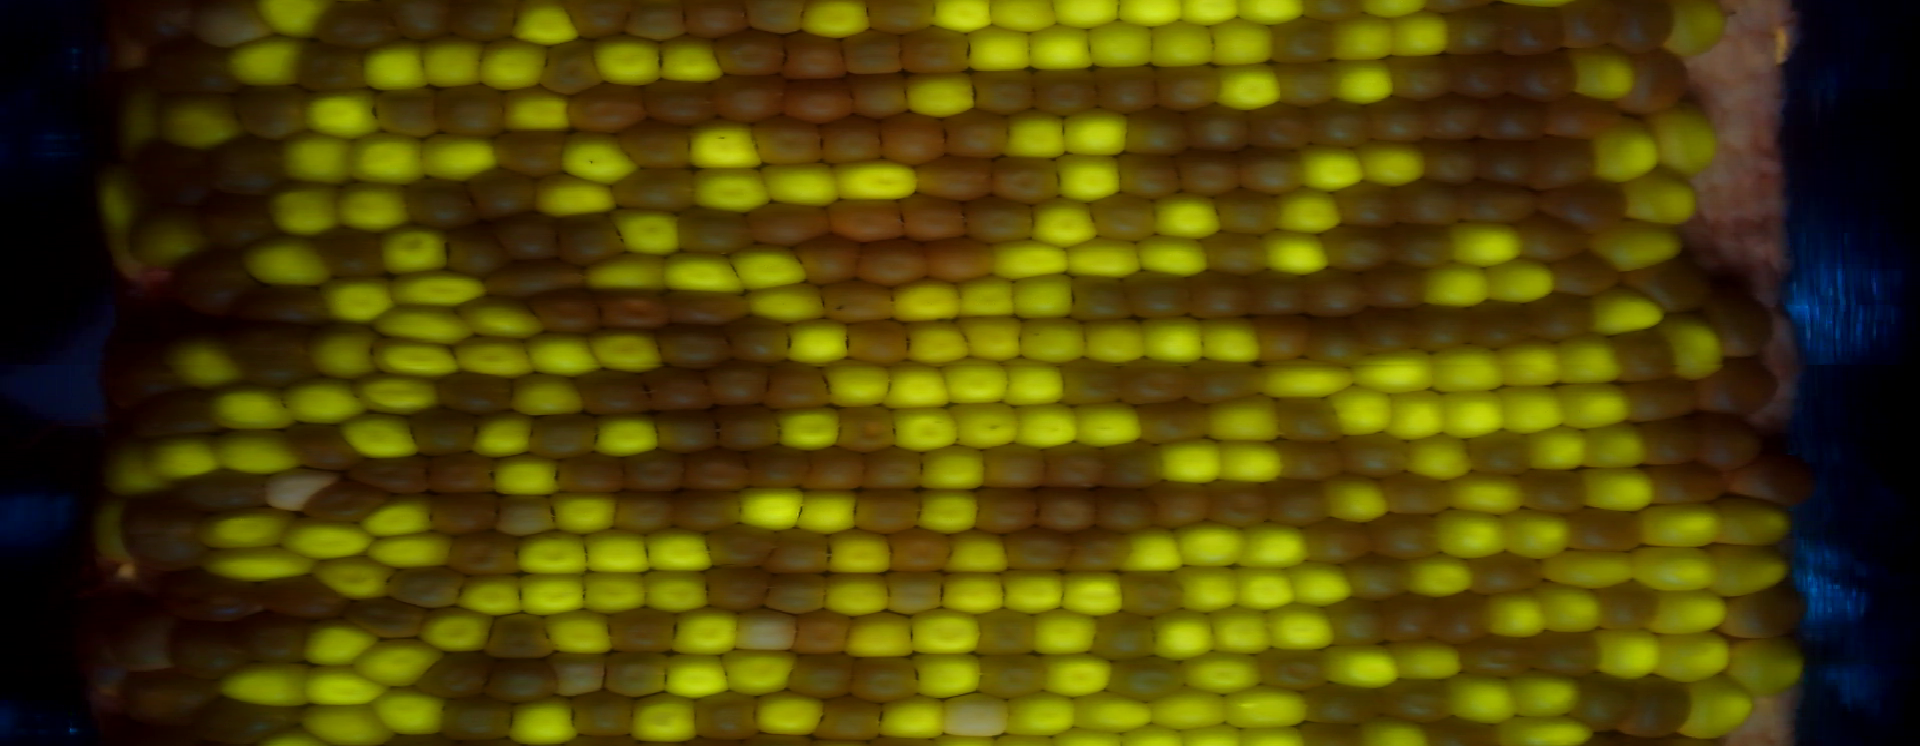fluorescent: (999, 107, 1078, 167), (1633, 546, 1729, 595), (1592, 220, 1682, 272), (239, 240, 328, 292), (1682, 677, 1750, 745), (1536, 546, 1638, 590), (218, 661, 309, 710), (300, 91, 392, 138), (375, 303, 471, 348), (1734, 637, 1805, 697), (1151, 183, 1223, 241), (578, 523, 651, 581), (1431, 511, 1513, 562), (1657, 635, 1739, 685), (293, 703, 387, 746), (683, 122, 765, 171), (1657, 104, 1713, 175), (216, 430, 304, 475), (830, 160, 923, 203), (1592, 119, 1656, 181), (157, 93, 240, 141), (1714, 546, 1793, 597), (1217, 685, 1311, 726), (763, 160, 842, 209), (986, 235, 1071, 281), (163, 343, 240, 393), (347, 135, 420, 187), (587, 36, 661, 87), (1483, 256, 1558, 307), (662, 249, 741, 298), (1644, 503, 1723, 552), (300, 665, 392, 707), (462, 296, 544, 343), (1667, 1, 1733, 59), (1319, 474, 1391, 527), (1719, 495, 1791, 548), (214, 383, 291, 432), (1205, 397, 1282, 446), (1450, 219, 1528, 267), (358, 40, 429, 93), (518, 530, 589, 583), (1668, 316, 1724, 382), (1127, 233, 1209, 278), (1020, 399, 1087, 454), (196, 506, 288, 546), (1357, 352, 1436, 398), (268, 185, 342, 235), (280, 134, 350, 186), (1058, 570, 1128, 622), (1071, 692, 1160, 734), (96, 499, 137, 587), (1209, 13, 1272, 71), (1063, 107, 1127, 164), (136, 203, 200, 261), (596, 318, 660, 376), (318, 556, 399, 601), (1187, 650, 1267, 696), (1177, 562, 1244, 616), (1356, 141, 1428, 191), (1420, 257, 1493, 307), (917, 606, 989, 657), (200, 549, 313, 581), (365, 527, 449, 570), (376, 688, 444, 741), (500, 88, 579, 134), (692, 167, 771, 212), (1320, 644, 1400, 690), (1389, 639, 1466, 686), (1442, 470, 1526, 513), (366, 371, 441, 419), (413, 127, 493, 171), (391, 272, 487, 309), (1135, 314, 1202, 366), (1152, 437, 1220, 490), (899, 320, 971, 369), (913, 492, 986, 541), (378, 334, 460, 377), (561, 134, 634, 181), (1629, 175, 1698, 225), (1586, 462, 1651, 516), (1196, 314, 1262, 366), (1594, 628, 1660, 681), (1015, 317, 1086, 366), (149, 432, 220, 481), (458, 339, 539, 382), (229, 38, 298, 88), (909, 70, 977, 120), (1261, 227, 1330, 277), (823, 356, 891, 407), (656, 29, 720, 83), (1179, 523, 1249, 572), (751, 688, 820, 737), (613, 208, 680, 260), (1270, 603, 1336, 654), (1433, 345, 1504, 393), (820, 571, 893, 617), (645, 571, 714, 620), (1330, 12, 1393, 65), (1473, 588, 1544, 635), (358, 644, 444, 682), (338, 181, 405, 230), (1507, 507, 1575, 556), (387, 224, 449, 277), (481, 37, 545, 88), (1007, 276, 1075, 323), (1561, 382, 1630, 430), (1513, 669, 1582, 717), (508, 697, 577, 745), (847, 611, 912, 661), (1265, 356, 1351, 394), (823, 530, 893, 577), (424, 36, 482, 91), (287, 381, 360, 425), (534, 332, 600, 381), (578, 572, 651, 616), (1084, 24, 1155, 70), (1271, 191, 1342, 236), (587, 251, 669, 290), (744, 281, 827, 320), (1067, 235, 1141, 278), (513, 375, 588, 418), (647, 526, 710, 576), (1245, 519, 1309, 570), (1656, 590, 1731, 632), (920, 443, 986, 491), (673, 606, 736, 657), (550, 491, 617, 538), (531, 176, 620, 212), (1071, 404, 1142, 448), (947, 533, 1018, 577), (1149, 687, 1221, 730), (725, 650, 797, 693), (496, 450, 555, 502), (1058, 154, 1124, 201), (1499, 341, 1565, 387), (1212, 439, 1282, 483), (313, 330, 376, 379), (1081, 318, 1144, 367), (1540, 586, 1603, 635), (891, 281, 962, 323), (1046, 653, 1109, 701), (552, 604, 610, 657), (1035, 609, 1093, 660), (518, 572, 583, 619), (631, 697, 696, 744), (887, 363, 947, 413), (1128, 524, 1188, 575), (324, 281, 397, 322), (1554, 339, 1620, 385), (1499, 386, 1569, 429), (1033, 23, 1096, 71), (740, 243, 807, 287), (1580, 49, 1636, 102), (802, 488, 858, 540), (1333, 387, 1391, 439), (1213, 609, 1271, 660), (781, 408, 846, 453), (1289, 562, 1354, 608), (512, 2, 580, 45), (947, 356, 1007, 405), (898, 405, 958, 454), (345, 416, 422, 454), (1003, 696, 1078, 735), (1151, 612, 1212, 660), (1000, 361, 1067, 405), (955, 405, 1021, 450), (971, 24, 1033, 71), (1303, 141, 1365, 187), (1386, 9, 1444, 59), (1460, 675, 1518, 724), (1442, 391, 1502, 439), (1155, 23, 1220, 67), (1581, 425, 1646, 469), (947, 576, 1011, 620), (880, 699, 945, 744), (1389, 390, 1444, 441), (1004, 565, 1063, 612), (915, 654, 982, 696), (662, 657, 730, 698), (421, 608, 486, 650), (800, 4, 879, 38), (307, 622, 372, 664), (738, 486, 800, 530), (1335, 58, 1393, 103), (1596, 290, 1665, 328), (1218, 64, 1278, 108), (596, 416, 662, 456), (471, 413, 530, 457), (291, 526, 372, 557), (1533, 428, 1587, 475), (1404, 439, 1469, 478), (105, 454, 171, 492), (460, 575, 520, 616), (1239, 567, 1294, 612), (256, 2, 326, 38), (791, 320, 849, 363), (1502, 718, 1588, 746), (962, 276, 1013, 323), (1044, 201, 1097, 246), (1418, 555, 1473, 598), (929, 1, 994, 37), (966, 317, 1015, 361), (993, 1, 1060, 33), (378, 501, 433, 539), (1120, 1, 1183, 34), (1058, 2, 1123, 33), (121, 94, 157, 149), (1363, 718, 1430, 746), (100, 174, 132, 228)
nonfluorescent: (119, 491, 202, 566), (126, 148, 213, 208), (1720, 588, 1813, 643), (119, 670, 208, 726), (160, 571, 266, 619), (1538, 178, 1624, 235), (1626, 674, 1696, 744), (1691, 361, 1776, 419), (229, 325, 313, 380), (173, 247, 249, 309), (1734, 454, 1812, 512), (1629, 257, 1712, 311), (1098, 657, 1193, 702), (576, 367, 651, 423), (202, 697, 302, 739), (1300, 682, 1392, 728), (711, 72, 793, 122), (98, 619, 171, 674), (1593, 579, 1660, 639), (900, 187, 969, 246), (282, 423, 360, 474), (825, 202, 907, 251), (697, 687, 767, 745), (845, 653, 921, 706), (615, 120, 694, 170), (1629, 48, 1691, 111), (1133, 266, 1198, 327), (168, 628, 241, 682), (782, 28, 853, 83), (433, 82, 504, 137), (213, 138, 284, 194), (1712, 295, 1776, 356), (264, 575, 344, 624), (1378, 676, 1461, 723), (879, 111, 949, 167), (340, 595, 419, 644), (129, 388, 213, 434), (1335, 180, 1407, 233), (313, 225, 386, 278), (235, 86, 309, 137), (855, 235, 928, 287), (436, 371, 517, 418), (1102, 62, 1164, 122), (436, 696, 514, 744), (609, 170, 693, 214), (558, 211, 624, 267), (589, 287, 671, 332), (845, 29, 917, 81), (1298, 266, 1367, 320), (973, 649, 1051, 697), (970, 65, 1040, 118), (1460, 635, 1540, 680), (934, 111, 1009, 160), (812, 696, 887, 745), (304, 40, 369, 97), (489, 208, 560, 260), (997, 529, 1075, 576), (1031, 67, 1103, 118), (991, 157, 1063, 207), (898, 29, 973, 77), (918, 156, 994, 203), (742, 205, 838, 243), (1505, 50, 1573, 103), (921, 235, 1000, 281), (658, 285, 749, 325), (1463, 549, 1549, 590), (1536, 630, 1610, 677), (1476, 93, 1547, 143), (1462, 178, 1540, 223), (1498, 2, 1565, 55), (1272, 16, 1340, 69), (1298, 314, 1365, 366), (1096, 611, 1163, 664), (160, 44, 236, 91), (571, 81, 644, 129), (1362, 304, 1425, 359), (971, 608, 1042, 657), (1367, 98, 1441, 145), (677, 205, 752, 251), (1188, 354, 1262, 401), (179, 469, 264, 510), (710, 33, 789, 77), (1087, 195, 1166, 239), (1417, 298, 1476, 356), (413, 654, 491, 698), (1210, 478, 1272, 533), (1254, 643, 1330, 688), (538, 43, 602, 96), (362, 91, 440, 135), (1270, 475, 1336, 527), (887, 524, 958, 572), (640, 78, 715, 124), (1187, 103, 1254, 153), (782, 606, 850, 657), (191, 4, 272, 45), (400, 176, 473, 223), (1544, 96, 1622, 138), (757, 118, 825, 167), (970, 195, 1038, 244), (660, 323, 729, 372), (784, 75, 857, 120), (1473, 296, 1531, 354), (551, 454, 628, 497), (391, 567, 465, 611), (1098, 483, 1162, 534), (800, 238, 864, 288), (676, 488, 746, 534), (1571, 677, 1629, 734), (844, 317, 910, 366), (651, 369, 718, 418), (1147, 480, 1213, 529), (1120, 567, 1187, 616), (1127, 107, 1188, 159), (722, 318, 793, 364), (1569, 508, 1640, 554), (564, 692, 636, 737), (1442, 56, 1510, 104), (1116, 151, 1183, 198), (1202, 233, 1270, 281), (425, 453, 500, 496), (1046, 441, 1109, 491), (708, 563, 771, 614), (710, 356, 768, 412), (1620, 328, 1679, 382), (1396, 181, 1466, 227), (497, 129, 563, 176), (1242, 149, 1308, 197), (767, 360, 833, 408), (1391, 49, 1452, 100), (1376, 472, 1450, 514), (1182, 151, 1244, 201), (983, 446, 1051, 492), (820, 113, 884, 162), (1531, 292, 1594, 341), (320, 7, 397, 48), (302, 481, 380, 522), (1651, 461, 1725, 502), (1324, 225, 1392, 271), (1057, 359, 1125, 404), (866, 445, 921, 501), (604, 649, 669, 697), (442, 2, 514, 45), (604, 608, 676, 650), (486, 260, 579, 293), (767, 528, 833, 575), (1346, 555, 1412, 601), (1558, 251, 1619, 301), (476, 167, 539, 216), (1070, 274, 1133, 323), (1626, 374, 1689, 423), (1471, 430, 1534, 478), (1434, 590, 1491, 643), (414, 412, 482, 456), (482, 660, 560, 699), (836, 403, 896, 453), (1272, 59, 1333, 108), (1692, 418, 1753, 467), (1523, 465, 1584, 514), (1215, 191, 1281, 236), (1346, 432, 1412, 478), (973, 490, 1040, 535), (884, 571, 947, 619), (1160, 62, 1217, 114), (1278, 440, 1349, 481), (247, 616, 312, 661), (1120, 361, 1189, 404), (529, 416, 598, 459), (1442, 9, 1504, 56), (628, 448, 689, 496), (1305, 103, 1378, 143), (451, 534, 523, 575), (204, 198, 271, 243), (792, 657, 858, 701), (1370, 518, 1444, 557), (708, 526, 773, 570), (823, 278, 891, 320), (1539, 140, 1600, 186), (536, 290, 598, 337), (1247, 262, 1299, 316), (1386, 588, 1440, 641), (1245, 107, 1311, 149), (1191, 271, 1247, 322), (1330, 597, 1387, 646), (1482, 138, 1540, 186), (1641, 419, 1700, 467), (767, 572, 830, 616), (426, 496, 493, 538), (733, 608, 793, 654), (487, 619, 561, 657), (1428, 96, 1493, 138), (1278, 399, 1344, 441), (852, 490, 918, 532), (1528, 218, 1592, 261), (1149, 403, 1212, 446), (362, 453, 426, 496), (694, 448, 756, 492), (751, 445, 809, 490), (1299, 522, 1371, 559), (845, 80, 912, 119), (808, 443, 862, 492), (615, 496, 686, 533), (249, 285, 324, 320), (447, 230, 509, 272), (1255, 316, 1309, 364), (1396, 223, 1455, 266), (1367, 265, 1423, 309), (551, 650, 609, 693), (631, 4, 688, 45), (1562, 4, 1615, 49), (1070, 533, 1133, 571), (1622, 2, 1671, 50), (498, 499, 560, 537), (571, 2, 636, 38), (1425, 140, 1478, 183), (1041, 492, 1098, 532), (720, 407, 778, 446), (658, 416, 719, 453), (871, 1, 936, 34), (686, 1, 749, 34), (393, 1, 451, 37), (1109, 443, 1163, 477), (744, 1, 798, 29)
